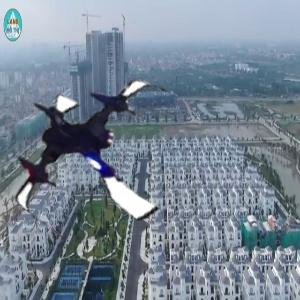drone: (5, 60, 196, 251)
